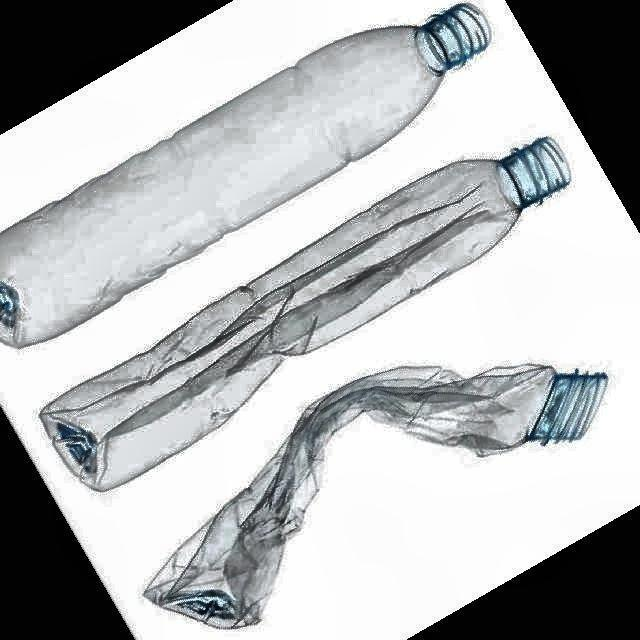plastic: (41, 138, 569, 489), (0, 5, 489, 346), (145, 365, 608, 628)
